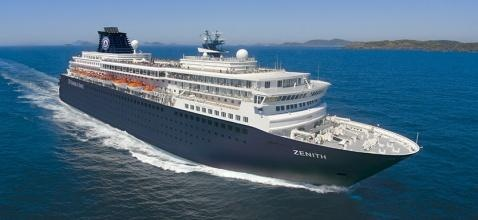youlun: (54, 21, 421, 186)
